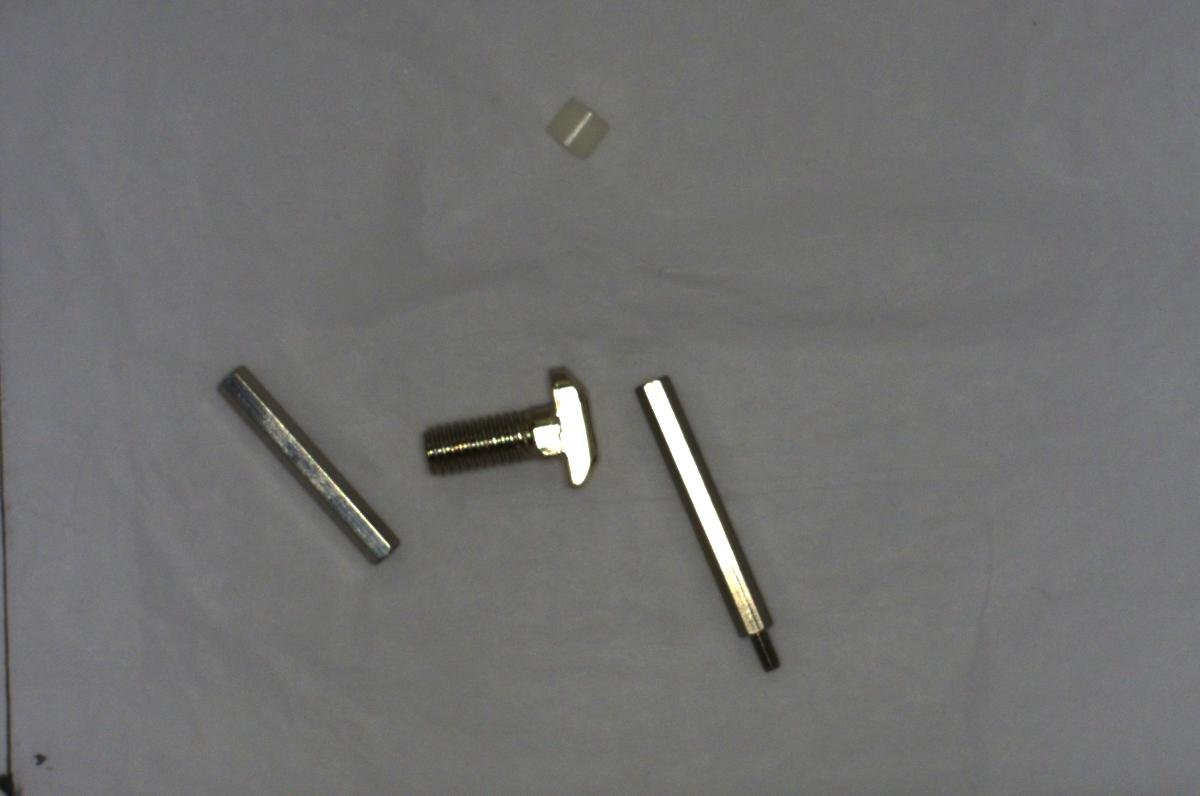Double hexagonal column: (210, 362, 404, 567)
Hexagonal steel column: (630, 370, 786, 673)
Plastic cushion pillar: (537, 92, 612, 161)
T-shaped screw: (418, 353, 599, 500)
